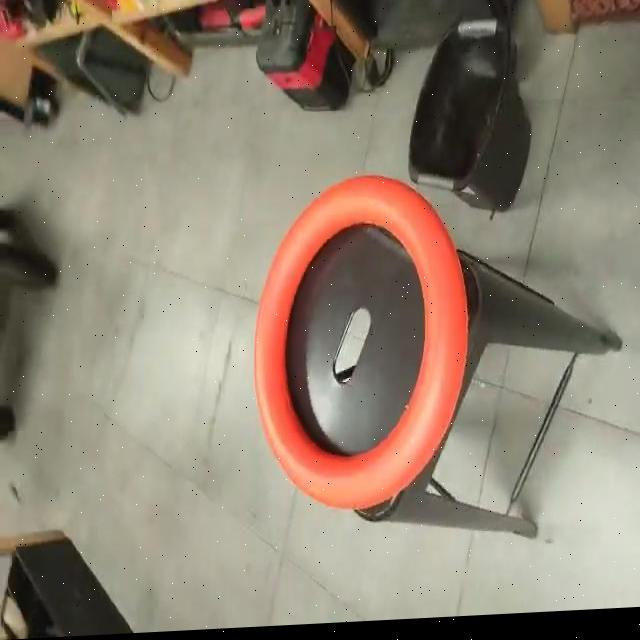note: (247, 172, 474, 527)
